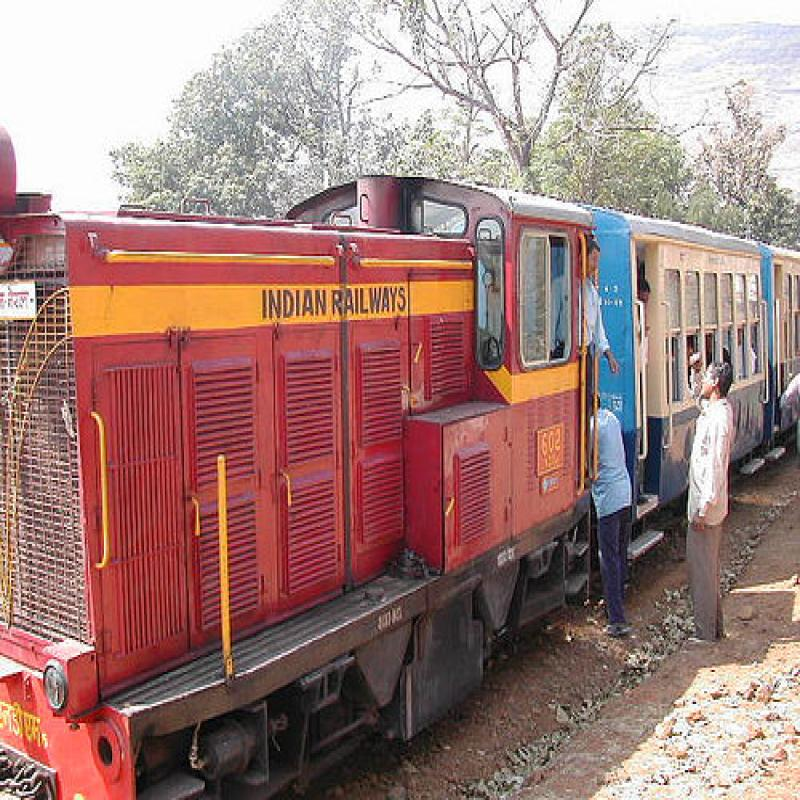train: (1, 122, 799, 798)
